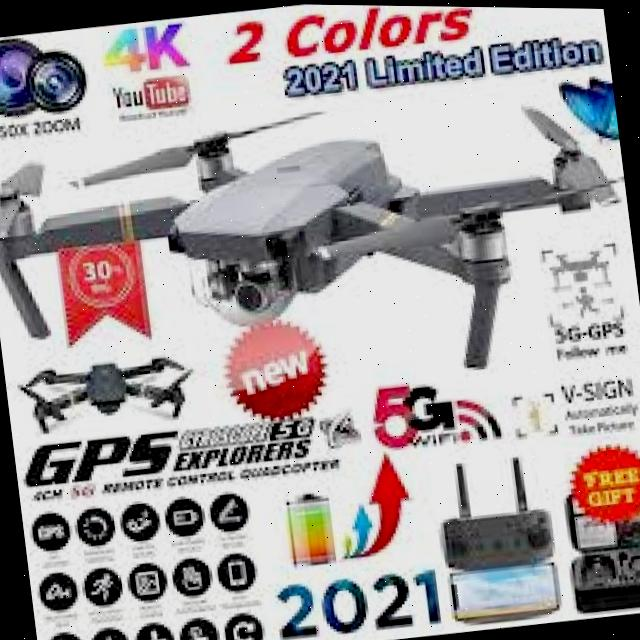drone: (0, 52, 633, 429), (13, 329, 207, 452)
